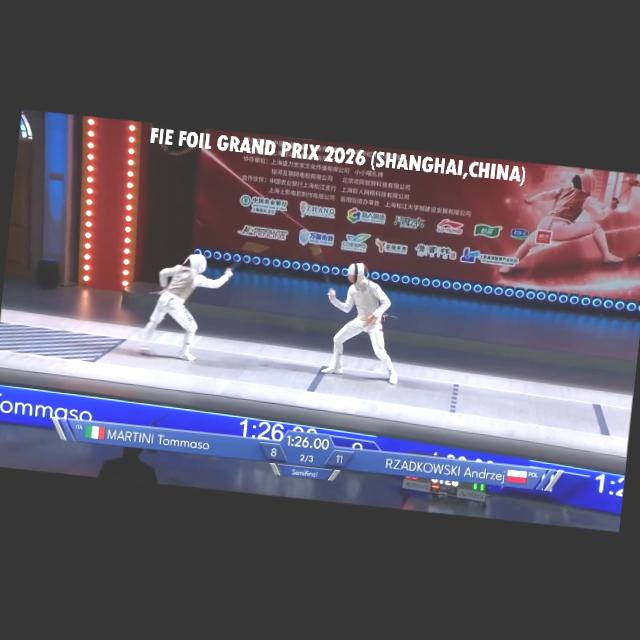blade: (298, 232, 339, 299)
